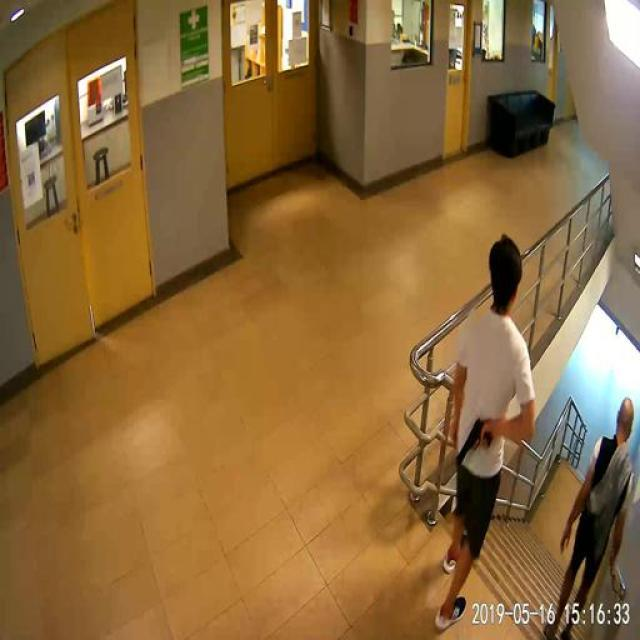Gun: (445, 415, 503, 473)
